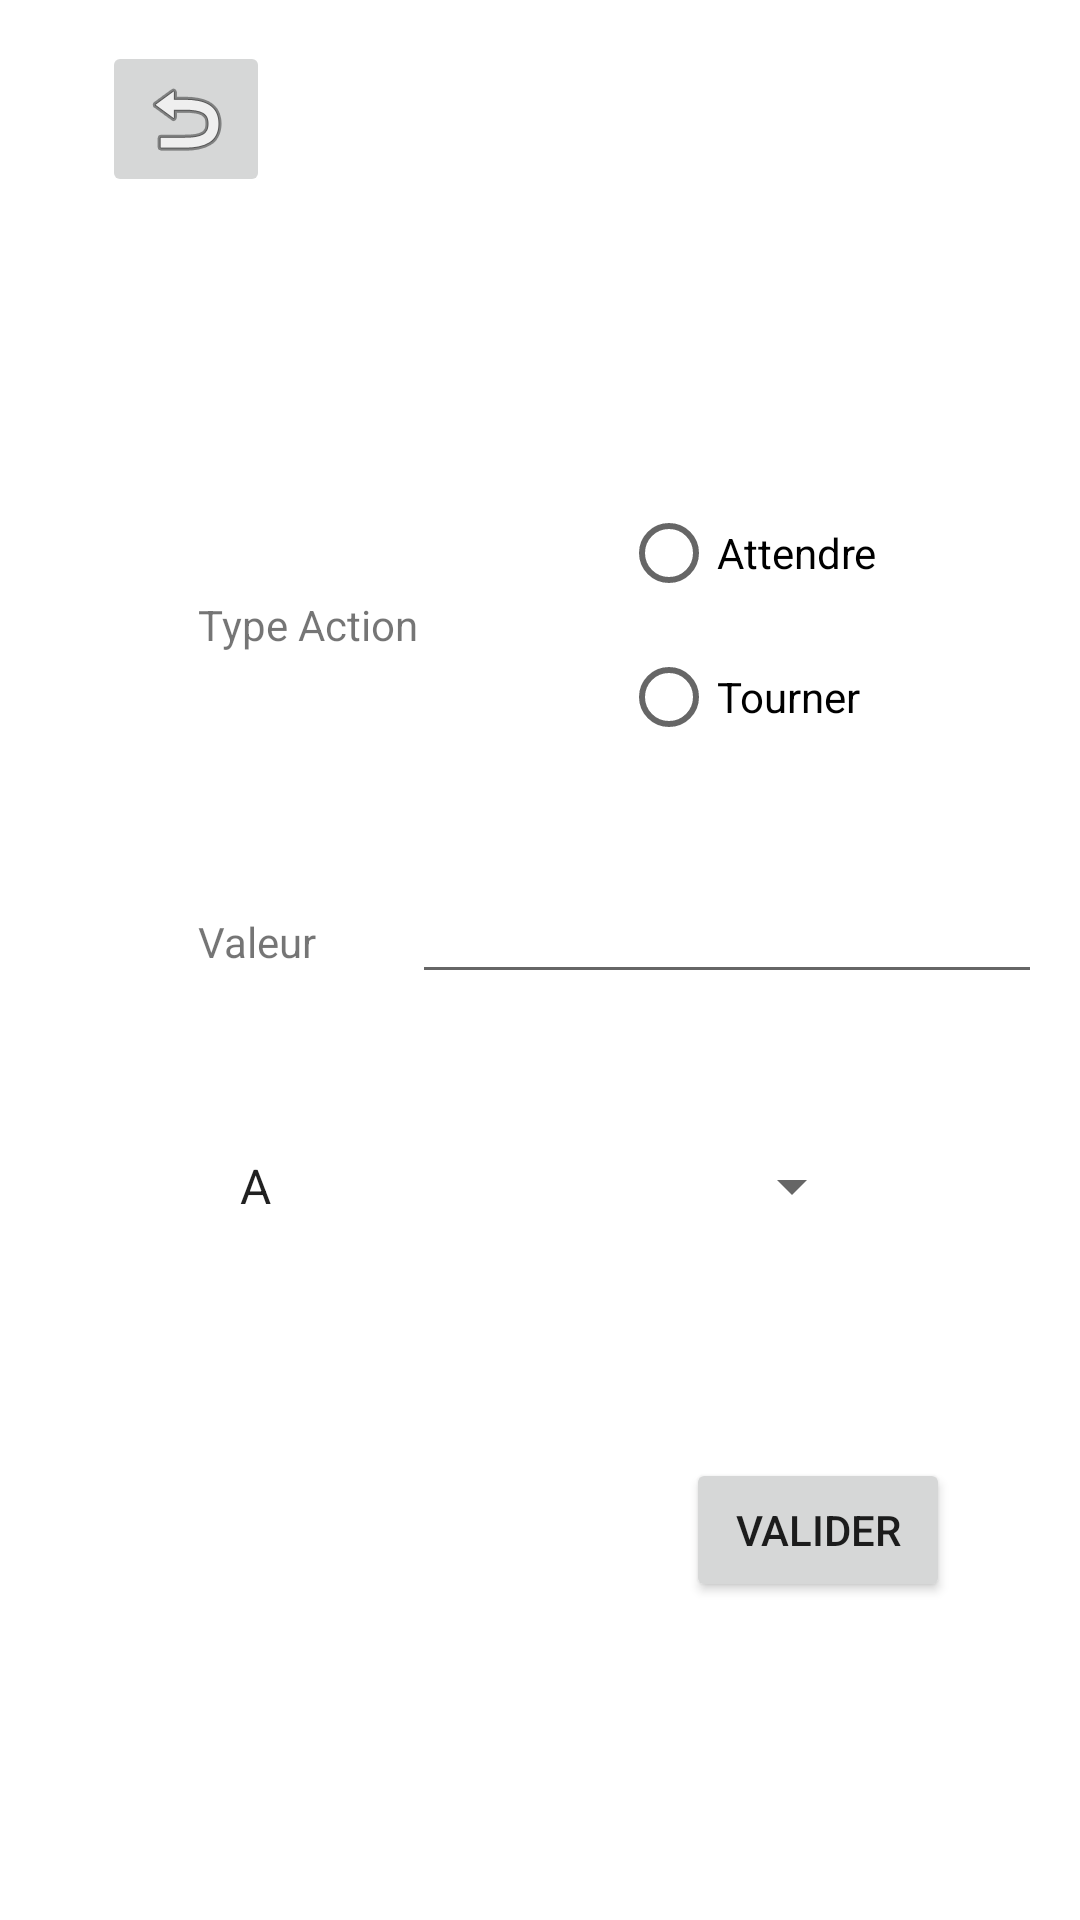

Icons on this 1080×1920 Android screen, each with the point to tap as point (x, y):
revert: point (186, 119)
